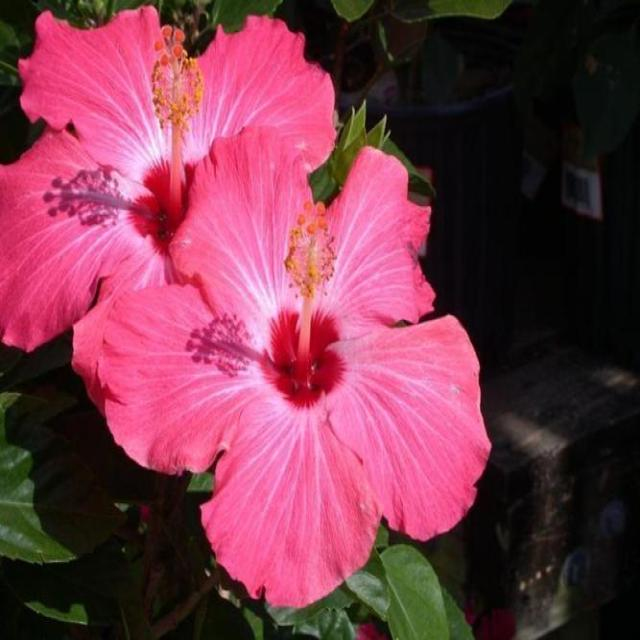hibiscus: (0, 0, 509, 620)
